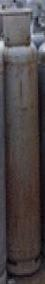cylinder: (1, 1, 45, 284)
